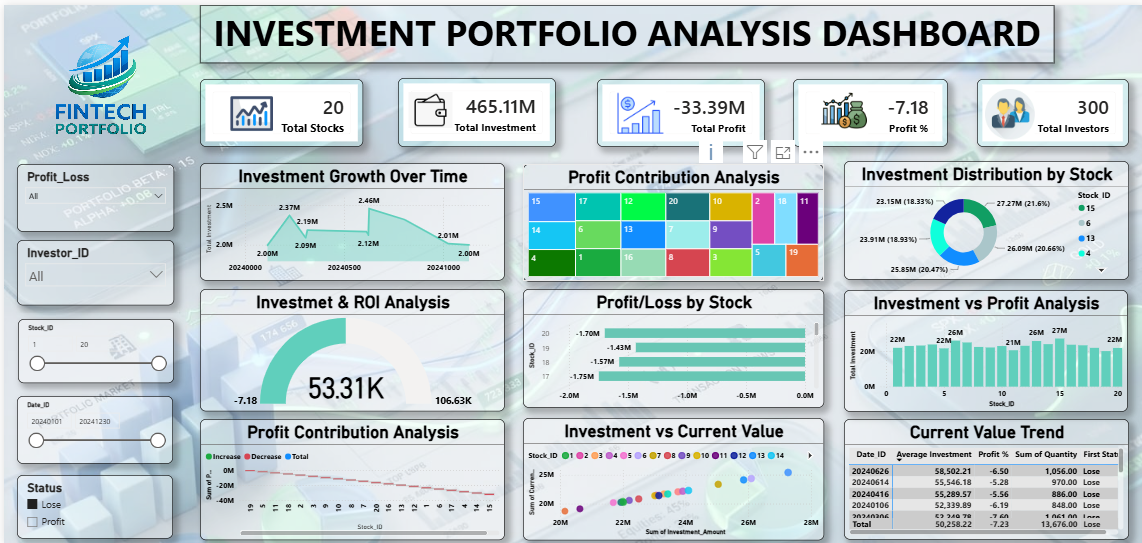

The page's visual inventory and layout, read from the dashboard file:
{"tool":"powerbi","page":{"name":"Page 1","canvas":[1600,900],"ordinal":0},"visuals":[{"type":"cardVisual","fields":{"Data":["investment_db investment_portfolio.Total Investment","select"]},"box":[21.9,123.3,192.9,113.3],"z":0},{"type":"cardVisual","fields":{"Data":["investment_db investment_portfolio.Total Stocks"]},"box":[272.4,123.3,198.8,113.3],"z":1000},{"type":"cardVisual","fields":{"Data":["investment_db investment_portfolio.ROI %"]},"box":[524.9,123.3,210.8,113.3],"z":2000},{"type":"cardVisual","fields":{"Data":["investment_db investment_portfolio.Total Profit"]},"box":[801.3,123.3,214.7,113.3],"z":3000},{"type":"cardVisual","fields":{"Data":["investment_db investment_portfolio.Profit %"]},"box":[1089.6,123.3,214.7,113.3],"z":4000},{"type":"cardVisual","fields":{"Data":["investment_db investment_portfolio.Total Investors"]},"box":[1360,123.3,214.7,113.3],"z":5000},{"type":"slicer","fields":{"Values":["investment_db investment_portfolio.Profit_Loss"]},"box":[21.6,264.6,192.6,113.4],"z":6000},{"type":"slicer","fields":{"Values":["investment_db investment_portfolio.Investor_ID"]},"box":[23.9,401.6,192.9,99.4],"z":7000},{"type":"slicer","fields":{"Values":["investment_db investment_portfolio.Stock_ID"]},"box":[23.9,522.9,190.9,107.4],"z":8000},{"type":"slicer","fields":{"Values":["investment_db investment_portfolio.Date_ID"]},"box":[23.4,649.8,196.2,93.6],"z":9000},{"type":"slicer","fields":{"Values":["investment_db investment_portfolio.Status"]},"box":[23.9,761.5,194.8,107.4],"z":10000},{"type":"areaChart","title":"Investment Growth Over Time","fields":{"Category":["investment_db investment_portfolio.Date_ID"],"Y":["investment_db investment_portfolio.Total Investment"]},"box":[245.7,252,449.3,197.4],"z":11000},{"type":"clusteredBarChart","title":"Profit/Lose by Stock","fields":{"Y":["Sum(investment_db investment_portfolio.Profit_Loss)"],"Category":["investment_db investment_portfolio.Stock_ID"]},"box":[736.2,252,412.2,198],"z":12000},{"type":"donutChart","title":"Investment Distribution by Stock","fields":{"Y":["Sum(investment_db investment_portfolio.Investment_Amount)"],"Category":["investment_db investment_portfolio.Stock_ID"]},"box":[1182.6,252,392.4,199.8],"z":13000},{"type":"pivotTable","title":"Current Value Trend","fields":{"Rows":["investment_db investment_portfolio.Date_ID"],"Values":["investment_db investment_portfolio.Average Investment","investment_db investment_portfolio.Profit %","Sum(investment_db investment_portfolio.Quantity)","Min(investment_db investment_portfolio.Status)"]},"box":[1182.6,471.6,392.4,178.2],"z":14000},{"type":"gauge","title":"Investmet & ROI Analysis","fields":{"Y":["investment_db investment_portfolio.Average Investment"],"MinValue":["investment_db investment_portfolio.ROI %"]},"box":[247.8,470.3,447.2,178.5],"z":15000},{"type":"treemap","title":"Profit Contribution Analysis","fields":{"Group":["investment_db investment_portfolio.Stock_ID"],"Values":["Sum(investment_db investment_portfolio.Profit_Loss)"]},"box":[736.2,468,412.2,180],"z":16000},{"type":"textbox","box":[0,0,1600.6,97.4],"z":17000},{"type":"waterfallChart","title":"Profit Contribution Analysis","fields":{"Category":["investment_db investment_portfolio.Stock_ID"],"Y":["Sum(investment_db investment_portfolio.Profit_Loss)"]},"box":[247.8,667.7,447.2,201.6],"z":18000},{"type":"scatterChart","title":"Investment vs Current Value","fields":{"X":["Sum(investment_db investment_portfolio.Investment_Amount)"],"Y":["Sum(investment_db investment_portfolio.Current_Value)"],"Series":["investment_db investment_portfolio.Stock_ID"],"Size":["Sum(investment_db investment_portfolio.Profit_Loss)"]},"box":[736,668,412,202],"z":19000},{"type":"hundredPercentStackedColumnChart","title":"Investment vs Profit Analysis","fields":{"Category":["investment_db investment_portfolio.Stock_ID"],"Y":["investment_db investment_portfolio.Total Investment"]},"box":[1183,668,392,202],"z":19001}]}

Visuals, with their boxes on the page's 1600x900 design canvas (x1, y1, x2, y2). These are canvas units, not pixel positions in the 1142x543 screenshot, which may show the page scaled, cropped or inside an application window:
cardVisual - investment_db investment_portfolio.Total Investment x select: box(22, 123, 215, 237)
cardVisual - investment_db investment_portfolio.Total Stocks: box(272, 123, 471, 237)
cardVisual - investment_db investment_portfolio.ROI %: box(525, 123, 736, 237)
cardVisual - investment_db investment_portfolio.Total Profit: box(801, 123, 1016, 237)
cardVisual - investment_db investment_portfolio.Profit %: box(1090, 123, 1304, 237)
cardVisual - investment_db investment_portfolio.Total Investors: box(1360, 123, 1575, 237)
slicer - investment_db investment_portfolio.Profit_Loss: box(22, 265, 214, 378)
slicer - investment_db investment_portfolio.Investor_ID: box(24, 402, 217, 501)
slicer - investment_db investment_portfolio.Stock_ID: box(24, 523, 215, 630)
slicer - investment_db investment_portfolio.Date_ID: box(23, 650, 220, 743)
slicer - investment_db investment_portfolio.Status: box(24, 762, 219, 869)
"Investment Growth Over Time" areaChart: box(246, 252, 695, 449)
"Profit/Lose by Stock" clusteredBarChart: box(736, 252, 1148, 450)
"Investment Distribution by Stock" donutChart: box(1183, 252, 1575, 452)
"Current Value Trend" pivotTable: box(1183, 472, 1575, 650)
"Investmet & ROI Analysis" gauge: box(248, 470, 695, 649)
"Profit Contribution Analysis" treemap: box(736, 468, 1148, 648)
textbox: box(0, 0, 1601, 97)
"Profit Contribution Analysis" waterfallChart: box(248, 668, 695, 869)
"Investment vs Current Value" scatterChart: box(736, 668, 1148, 870)
"Investment vs Profit Analysis" hundredPercentStackedColumnChart: box(1183, 668, 1575, 870)
